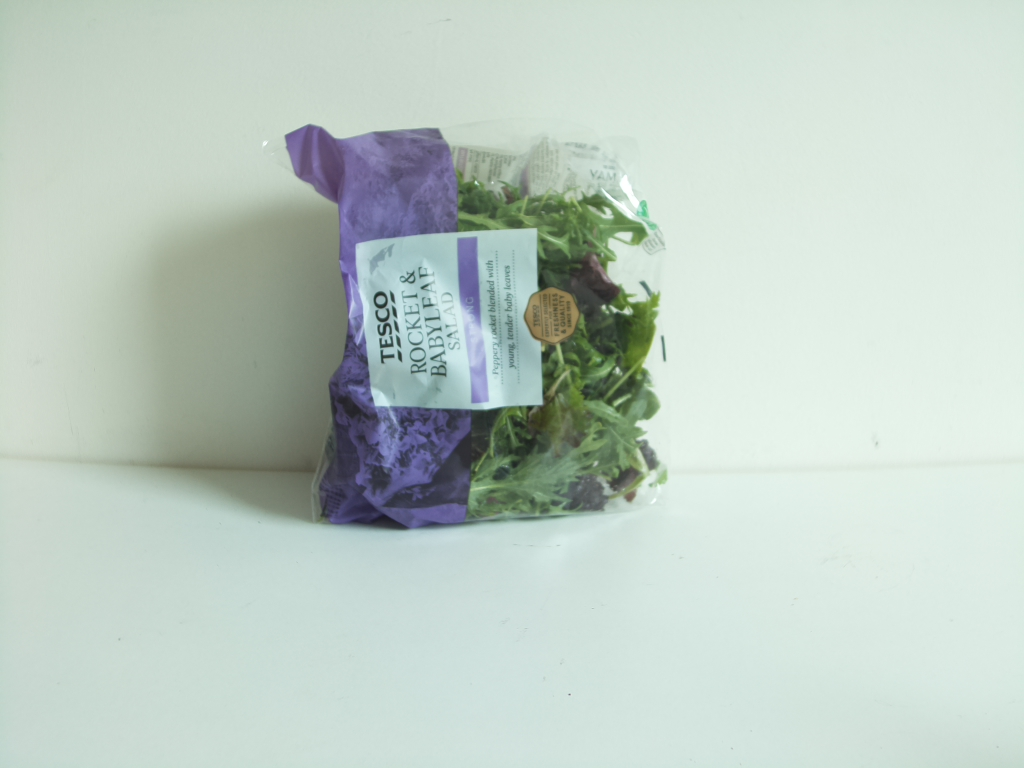salad: (275, 119, 675, 526)
